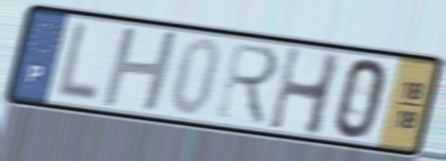0: (167, 35, 226, 119), (331, 56, 388, 141)
H: (264, 43, 345, 141), (98, 26, 182, 114)
L: (51, 19, 104, 107)
R: (214, 39, 282, 130)
